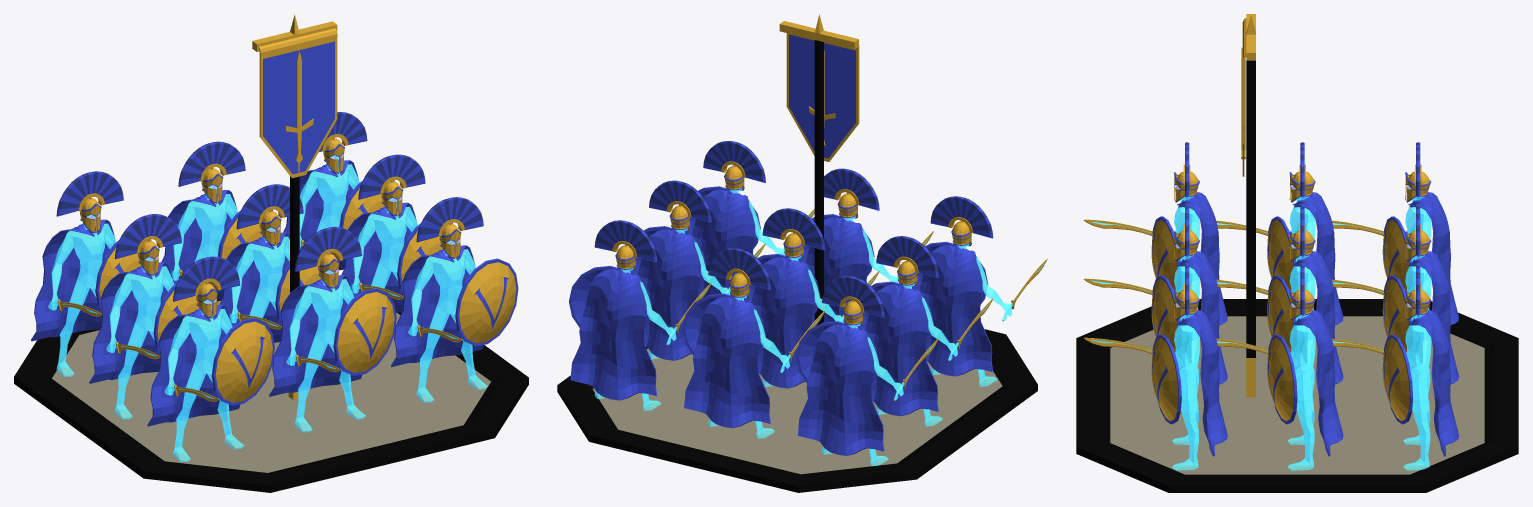
File: blue sword unit merged.fbx
3 views of the same model, side by side, from view 1: azimuth 30°, elevation 25°; view 2: azimuth 150°, elevation 25°; view 3: azimuth 270°, elevation 25° (orthographic). The views are drawn at different scales.
Parts seen in each view (by area): view 1: Cube; view 2: Cube; view 3: Cube.
Boxes of the visible parts, box(x1,y1,x2,y2) form: Cube: box(14, 14, 528, 492); Cube: box(557, 14, 1047, 492); Cube: box(1076, 14, 1518, 492).
Size of the model in its own units: 500 by 480 by 500.
